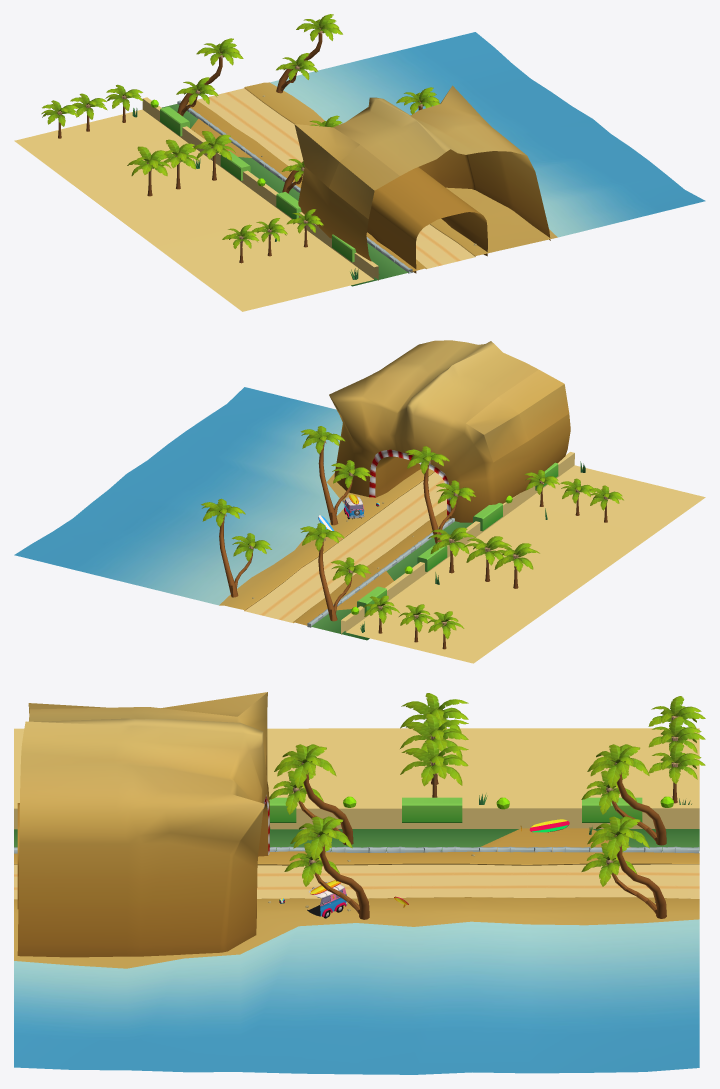
The model's file is beach_tunnel.fbx.
3 views of the same model, one above another, from view 1: azimuth 30°, elevation 25°; view 2: azimuth 150°, elevation 25°; view 3: azimuth 270°, elevation 25° (orthographic). The views are drawn at different scales.
Parts seen in each view (by area): view 1: tunnel_beach; view 2: tunnel_beach; view 3: tunnel_beach.
Part boxes in pixels (left/top/right/bottom): tunnel_beach: left=14, top=14, right=705, bottom=311; tunnel_beach: left=14, top=340, right=705, bottom=663; tunnel_beach: left=14, top=692, right=705, bottom=1074.
Size of the model in its own units: 2743 by 672 by 2376.
